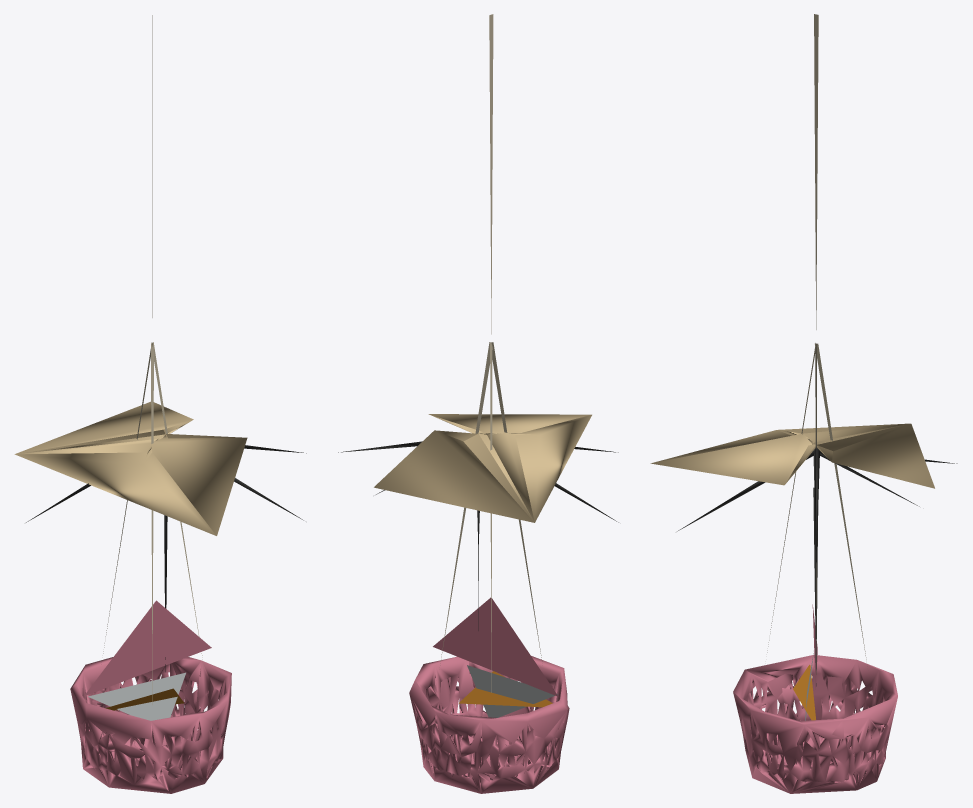
File: gio_du.glb
3 renders of one model, left to right at view 1: azimuth 30°, elevation 25°; view 2: azimuth 150°, elevation 25°; view 3: azimuth 270°, elevation 25°, orthographic.
Parts seen in each view (by area): view 1: gio_du; view 2: gio_du; view 3: gio_du.
Boxes of the visible parts, left/top/right/bottom form: gio_du: left=14, top=15, right=306, bottom=793; gio_du: left=338, top=14, right=618, bottom=793; gio_du: left=650, top=14, right=957, bottom=793.
Size of the model in its own units: 0.4373 by 1.1 by 0.4081.
